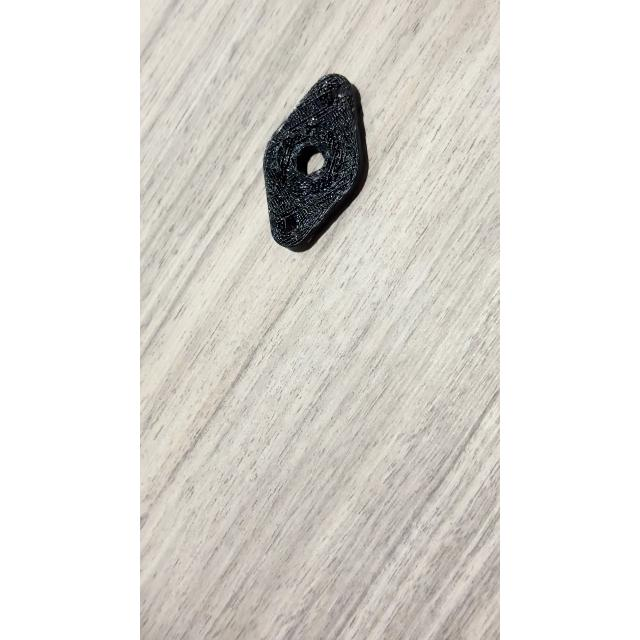Pieza_2: (255, 61, 385, 267)
